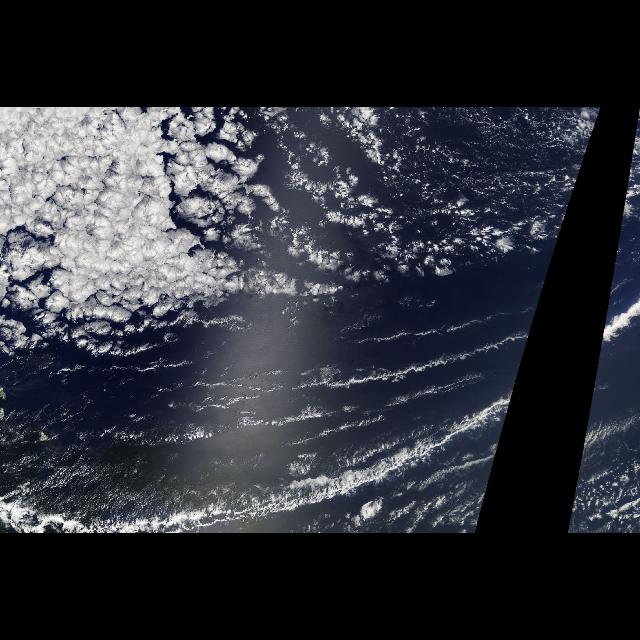Flower: (6, 115, 358, 348)
Sugar: (12, 373, 286, 507)
